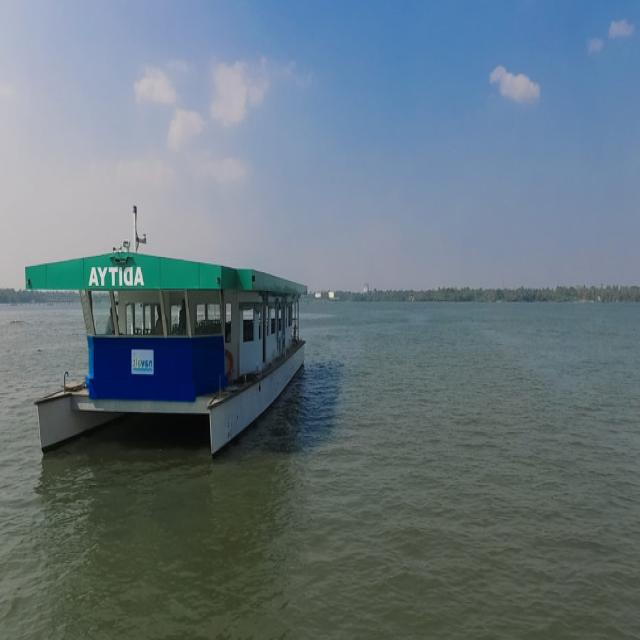houseboat: (21, 199, 312, 475)
